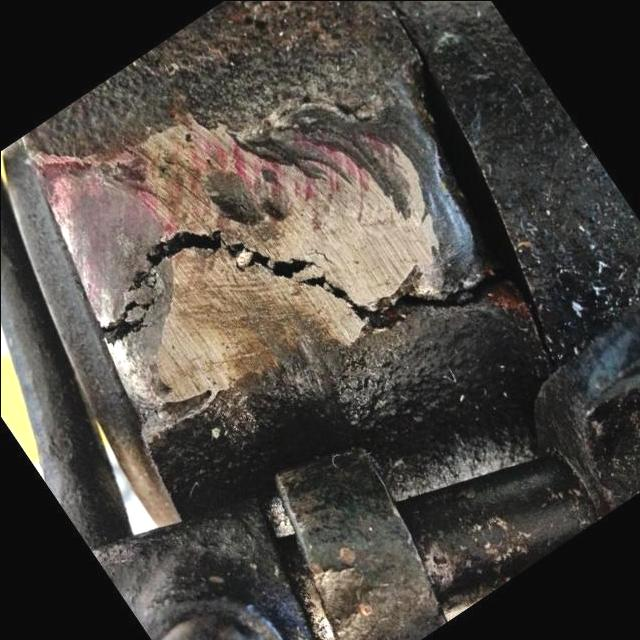defect: (78, 213, 513, 348)
